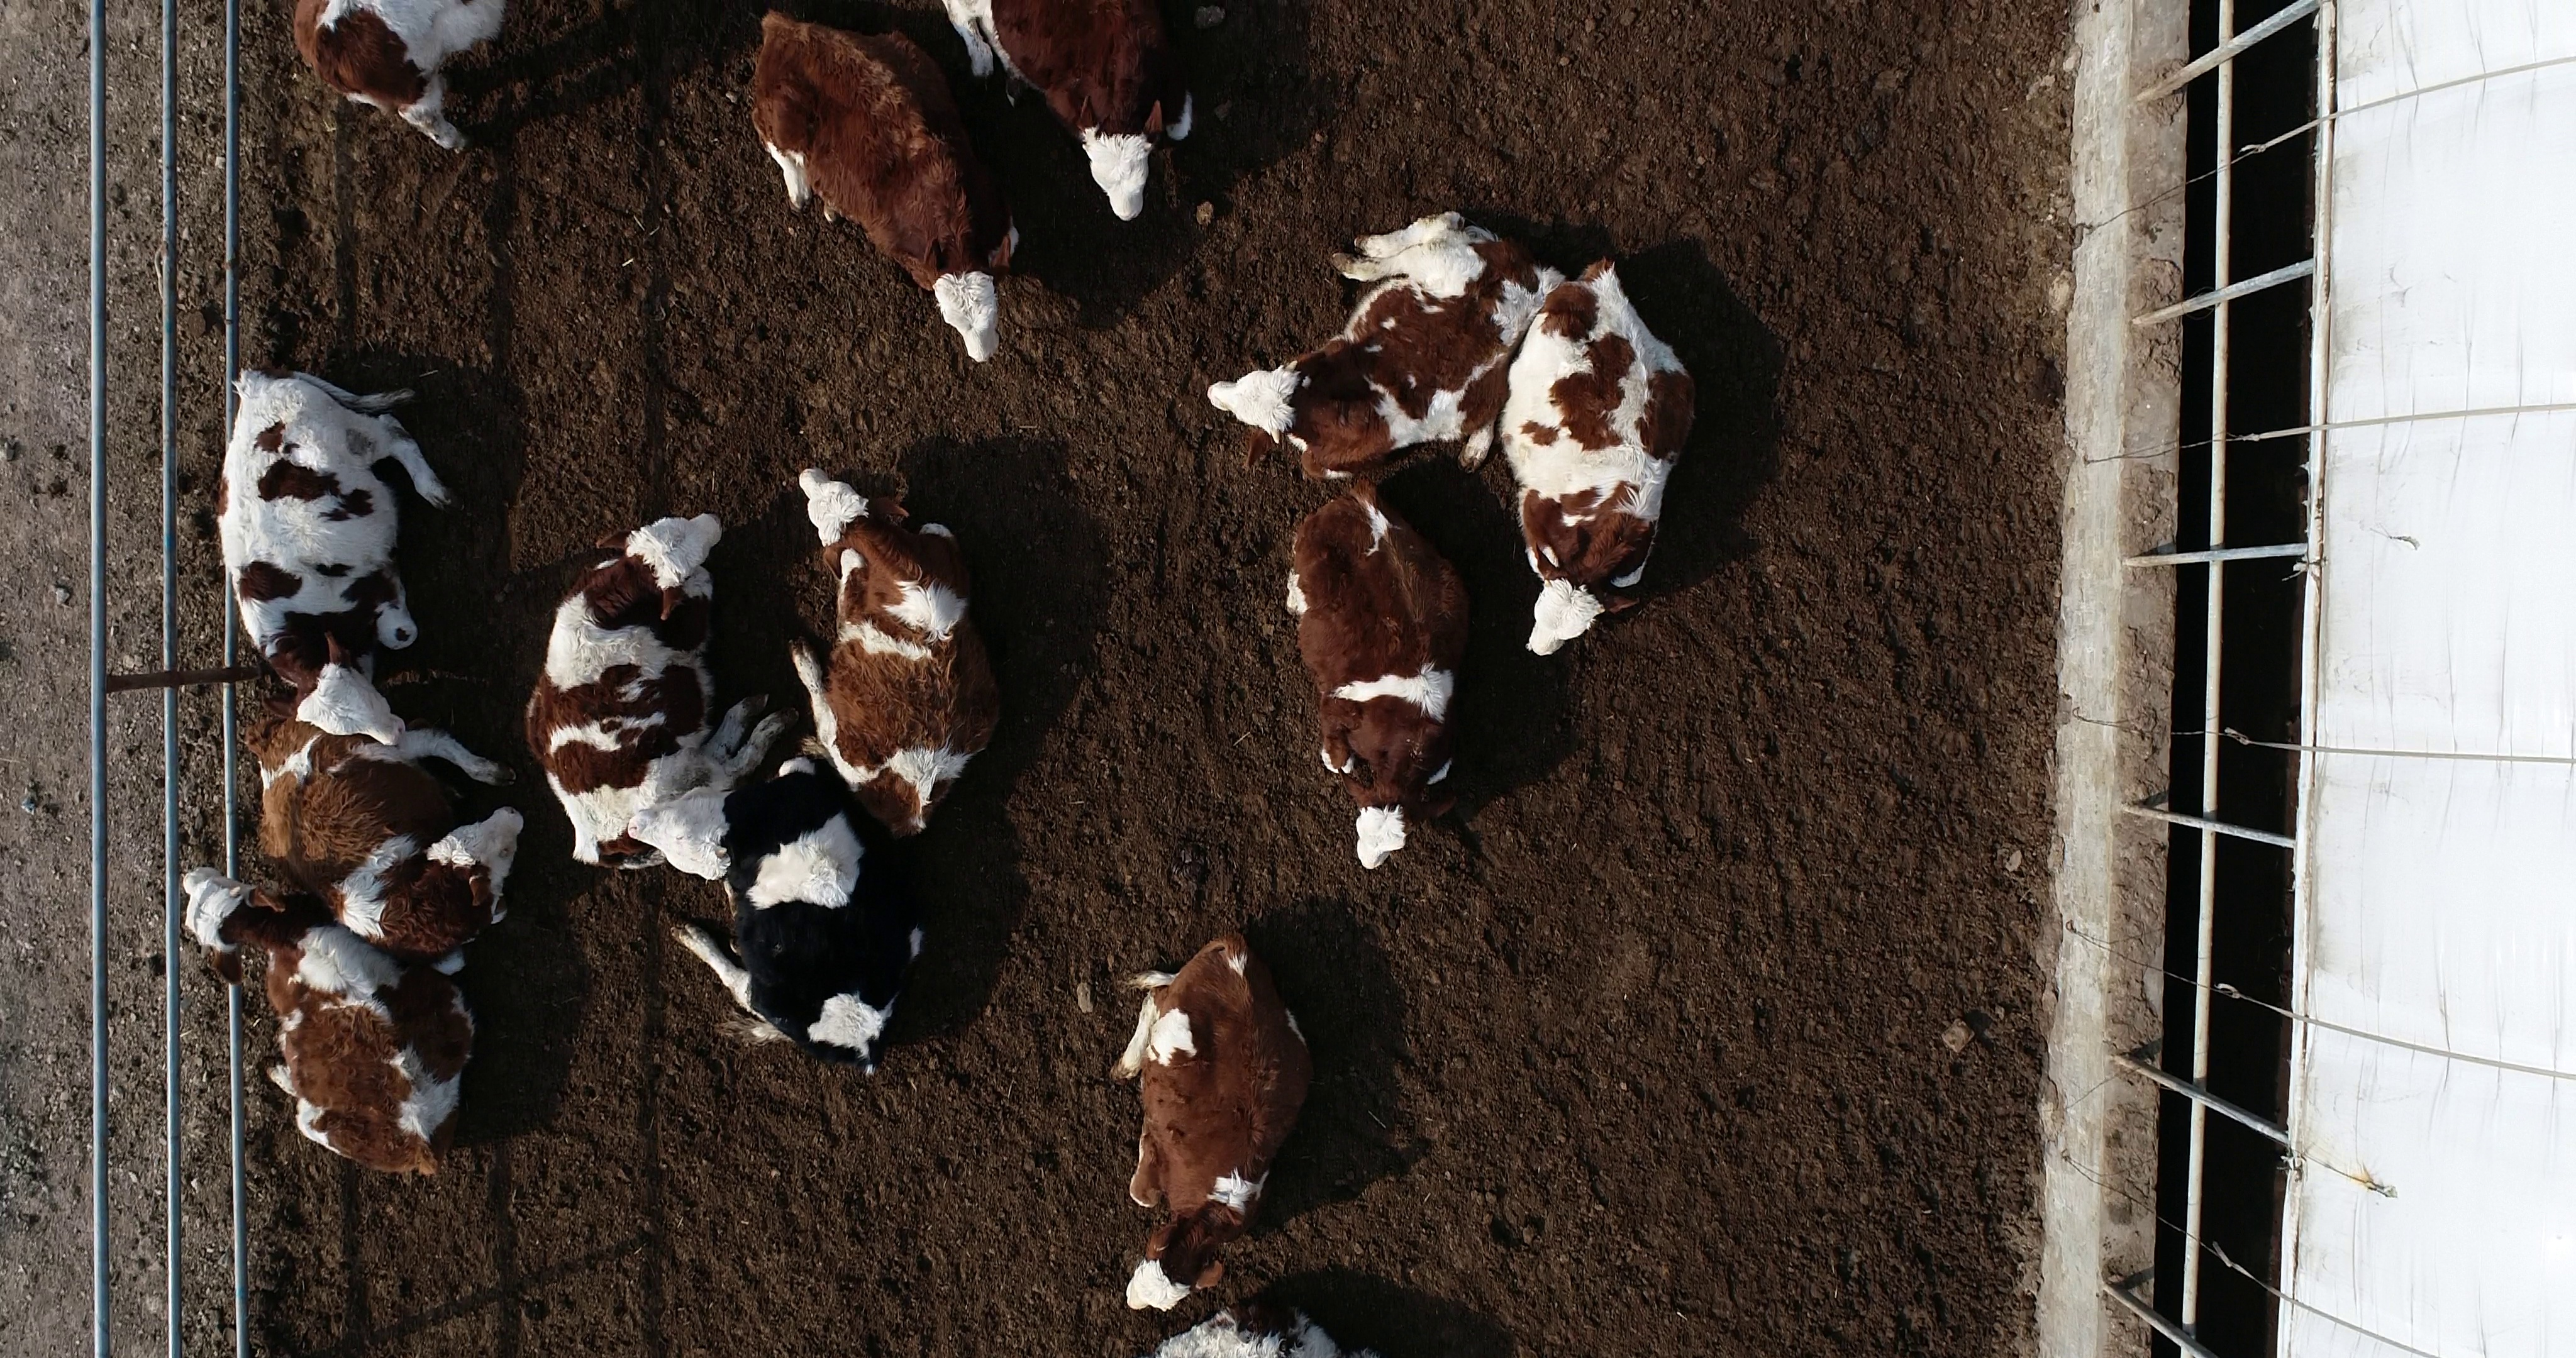cattle: (738, 5, 1043, 366), (622, 751, 927, 1075), (208, 361, 458, 750), (1095, 929, 1322, 1315), (784, 457, 1007, 845), (1498, 250, 1702, 659), (1283, 475, 1482, 878)
